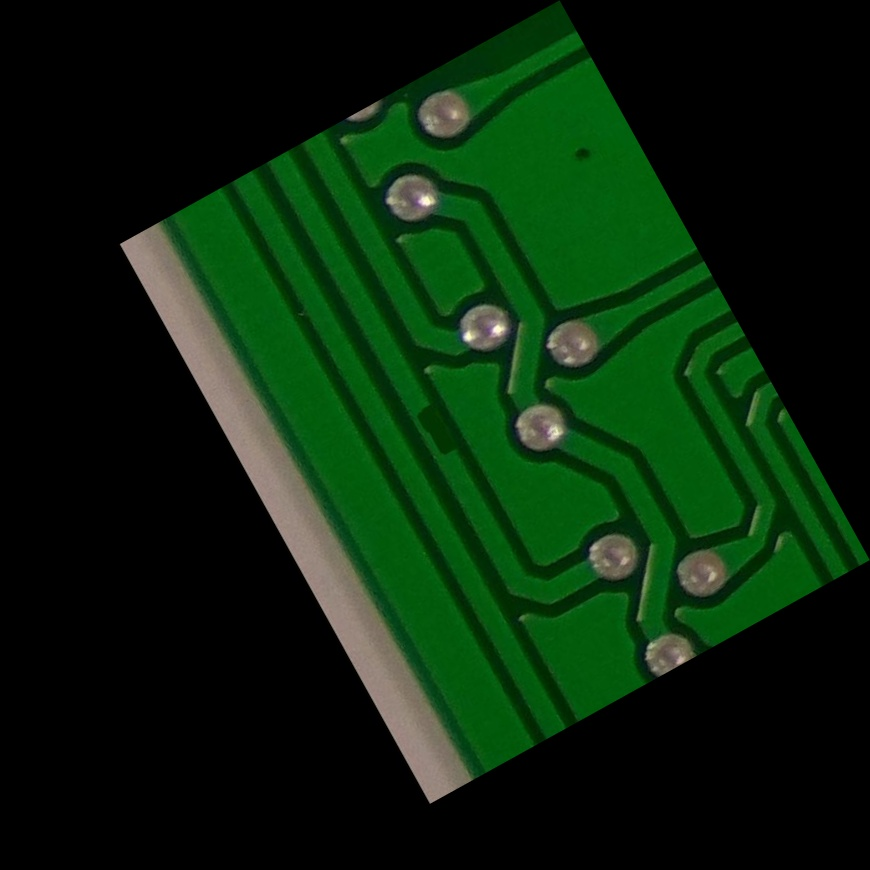mouse_bite: (395, 386, 474, 485)
